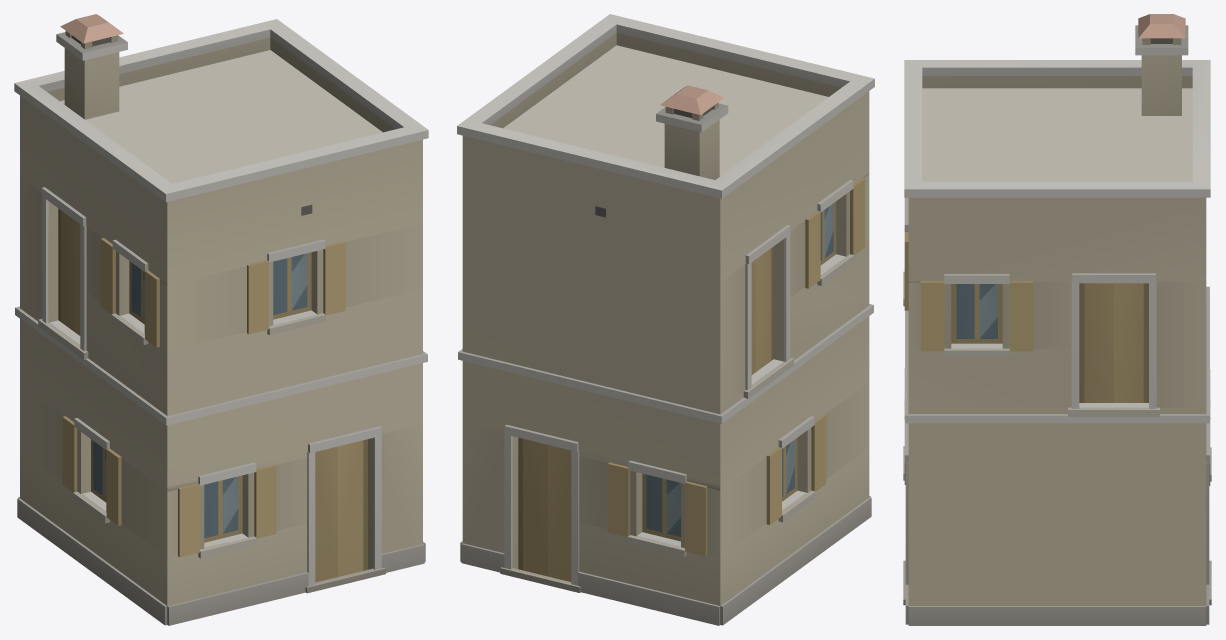
3 renders of one model, left to right at view 1: azimuth 30°, elevation 25°; view 2: azimuth 150°, elevation 25°; view 3: azimuth 270°, elevation 25°, orthographic.
Size of the model in its own units: 4.43 by 8 by 4.43.
